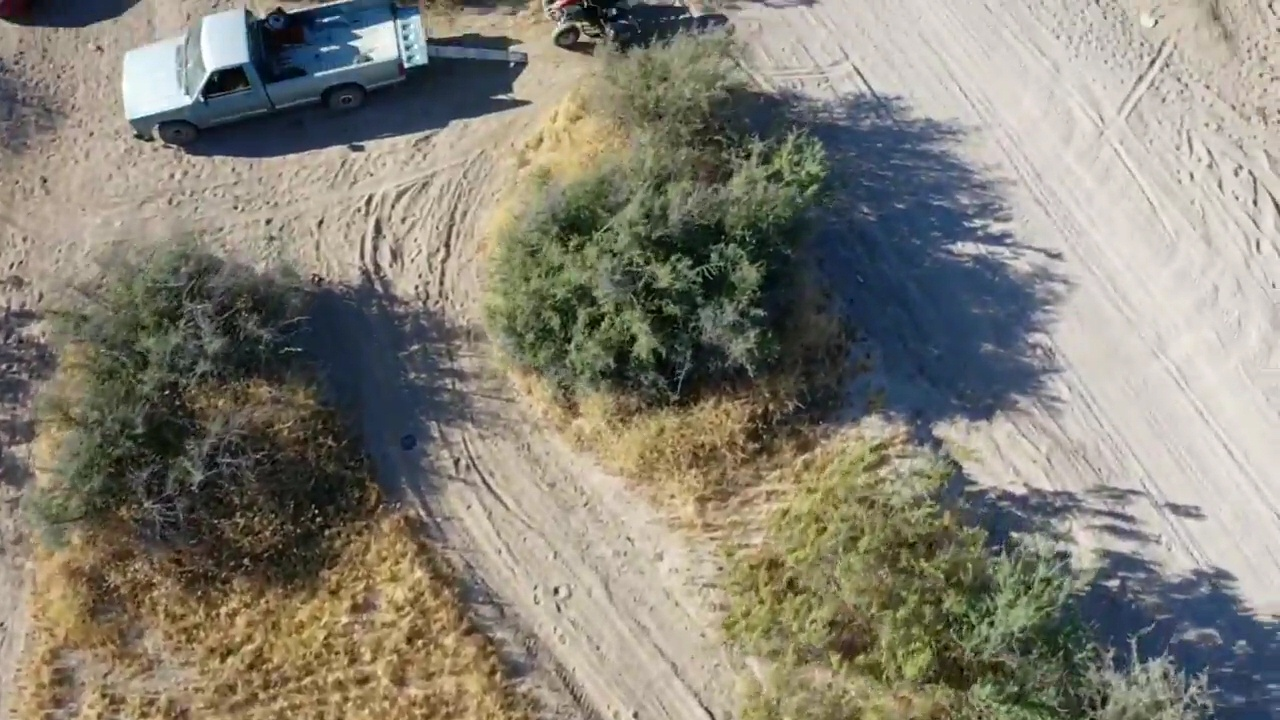kamyonet: (116, 1, 438, 157)
